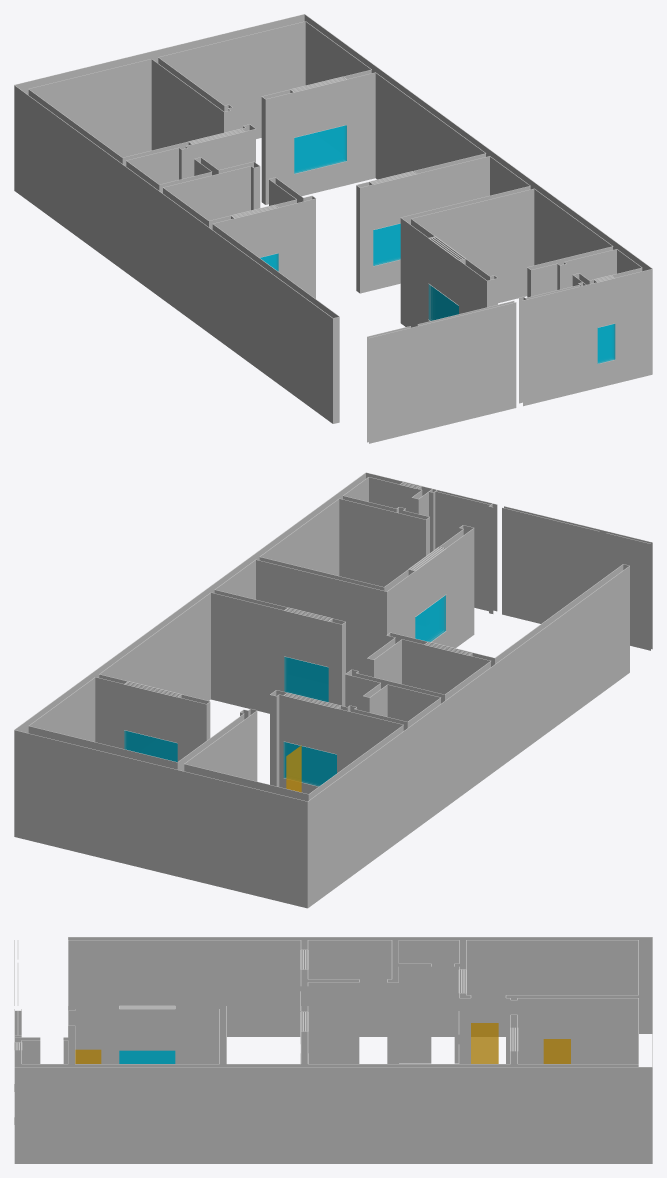
The model's file is 91e98d1e-a3e4-4c99-bbb9-40e25e035e17.glb.
3 views of the same model, one above another, from view 1: azimuth 30°, elevation 25°; view 2: azimuth 150°, elevation 25°; view 3: azimuth 270°, elevation 25° (orthographic). The views are drawn at different scales.
Parts seen in each view (by area): view 1: walls, windows, roof; view 2: walls, windows, roof, doors; view 3: walls, roof, doors, windows.
Boxes of the visible parts, bbox=[...] form: walls: bbox=[14, 14, 652, 443]; windows: bbox=[260, 125, 615, 363]; roof: bbox=[14, 14, 652, 338]; walls: bbox=[14, 473, 652, 908]; windows: bbox=[124, 595, 445, 786]; roof: bbox=[14, 472, 652, 801]; doors: bbox=[286, 745, 301, 792]; walls: bbox=[14, 937, 652, 1163]; roof: bbox=[14, 937, 652, 1067]; doors: bbox=[75, 1023, 570, 1063]; windows: bbox=[119, 1050, 175, 1063].
Size of the model in its own units: 10.08 by 3.5 by 20.91.
